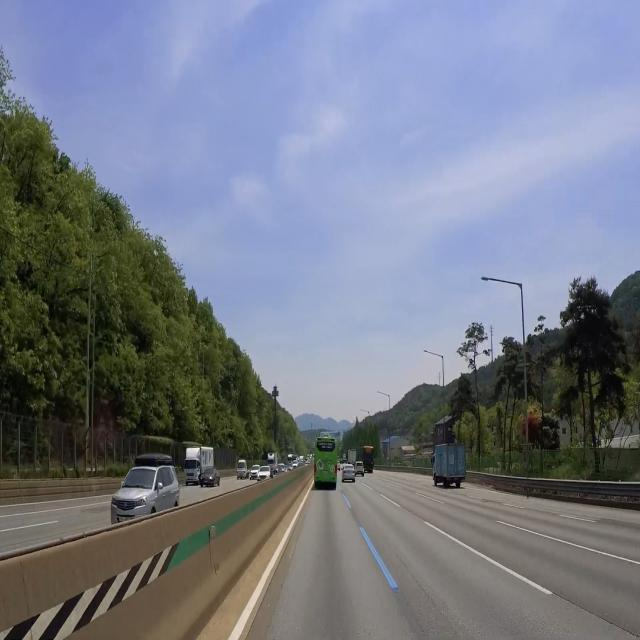car: (322, 470, 328, 476), (347, 471, 352, 475)
